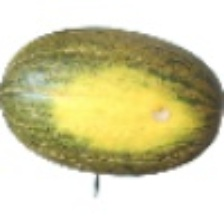honeydew: (29, 4, 217, 193)
